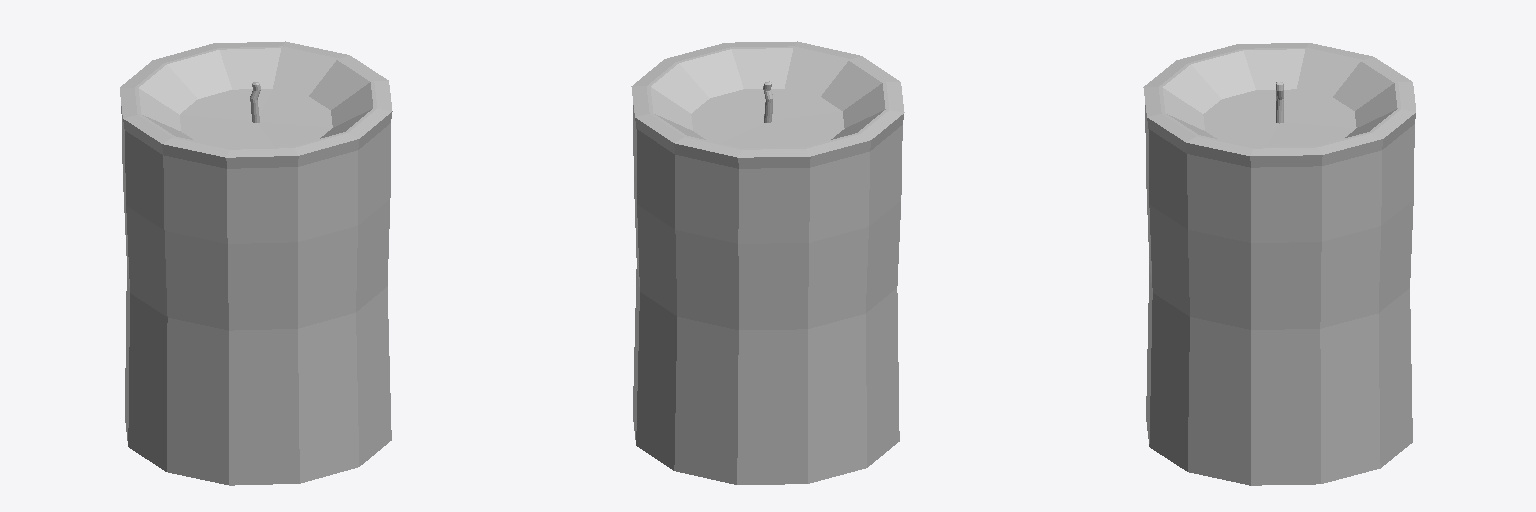
The model's file is candle_short.obj.
3 renders of one model, left to right at view 1: azimuth 30°, elevation 25°; view 2: azimuth 150°, elevation 25°; view 3: azimuth 270°, elevation 25°, orthographic.
Parts seen in each view (by area): view 1: pCylinder4; view 2: pCylinder4; view 3: pCylinder4.
Part boxes in pixels (x1,y1,x2,y2): pCylinder4: (120,41,392,485); pCylinder4: (631,41,904,484); pCylinder4: (1143,43,1415,485).
Size of the model in its own units: 33.75 by 47.45 by 33.75.